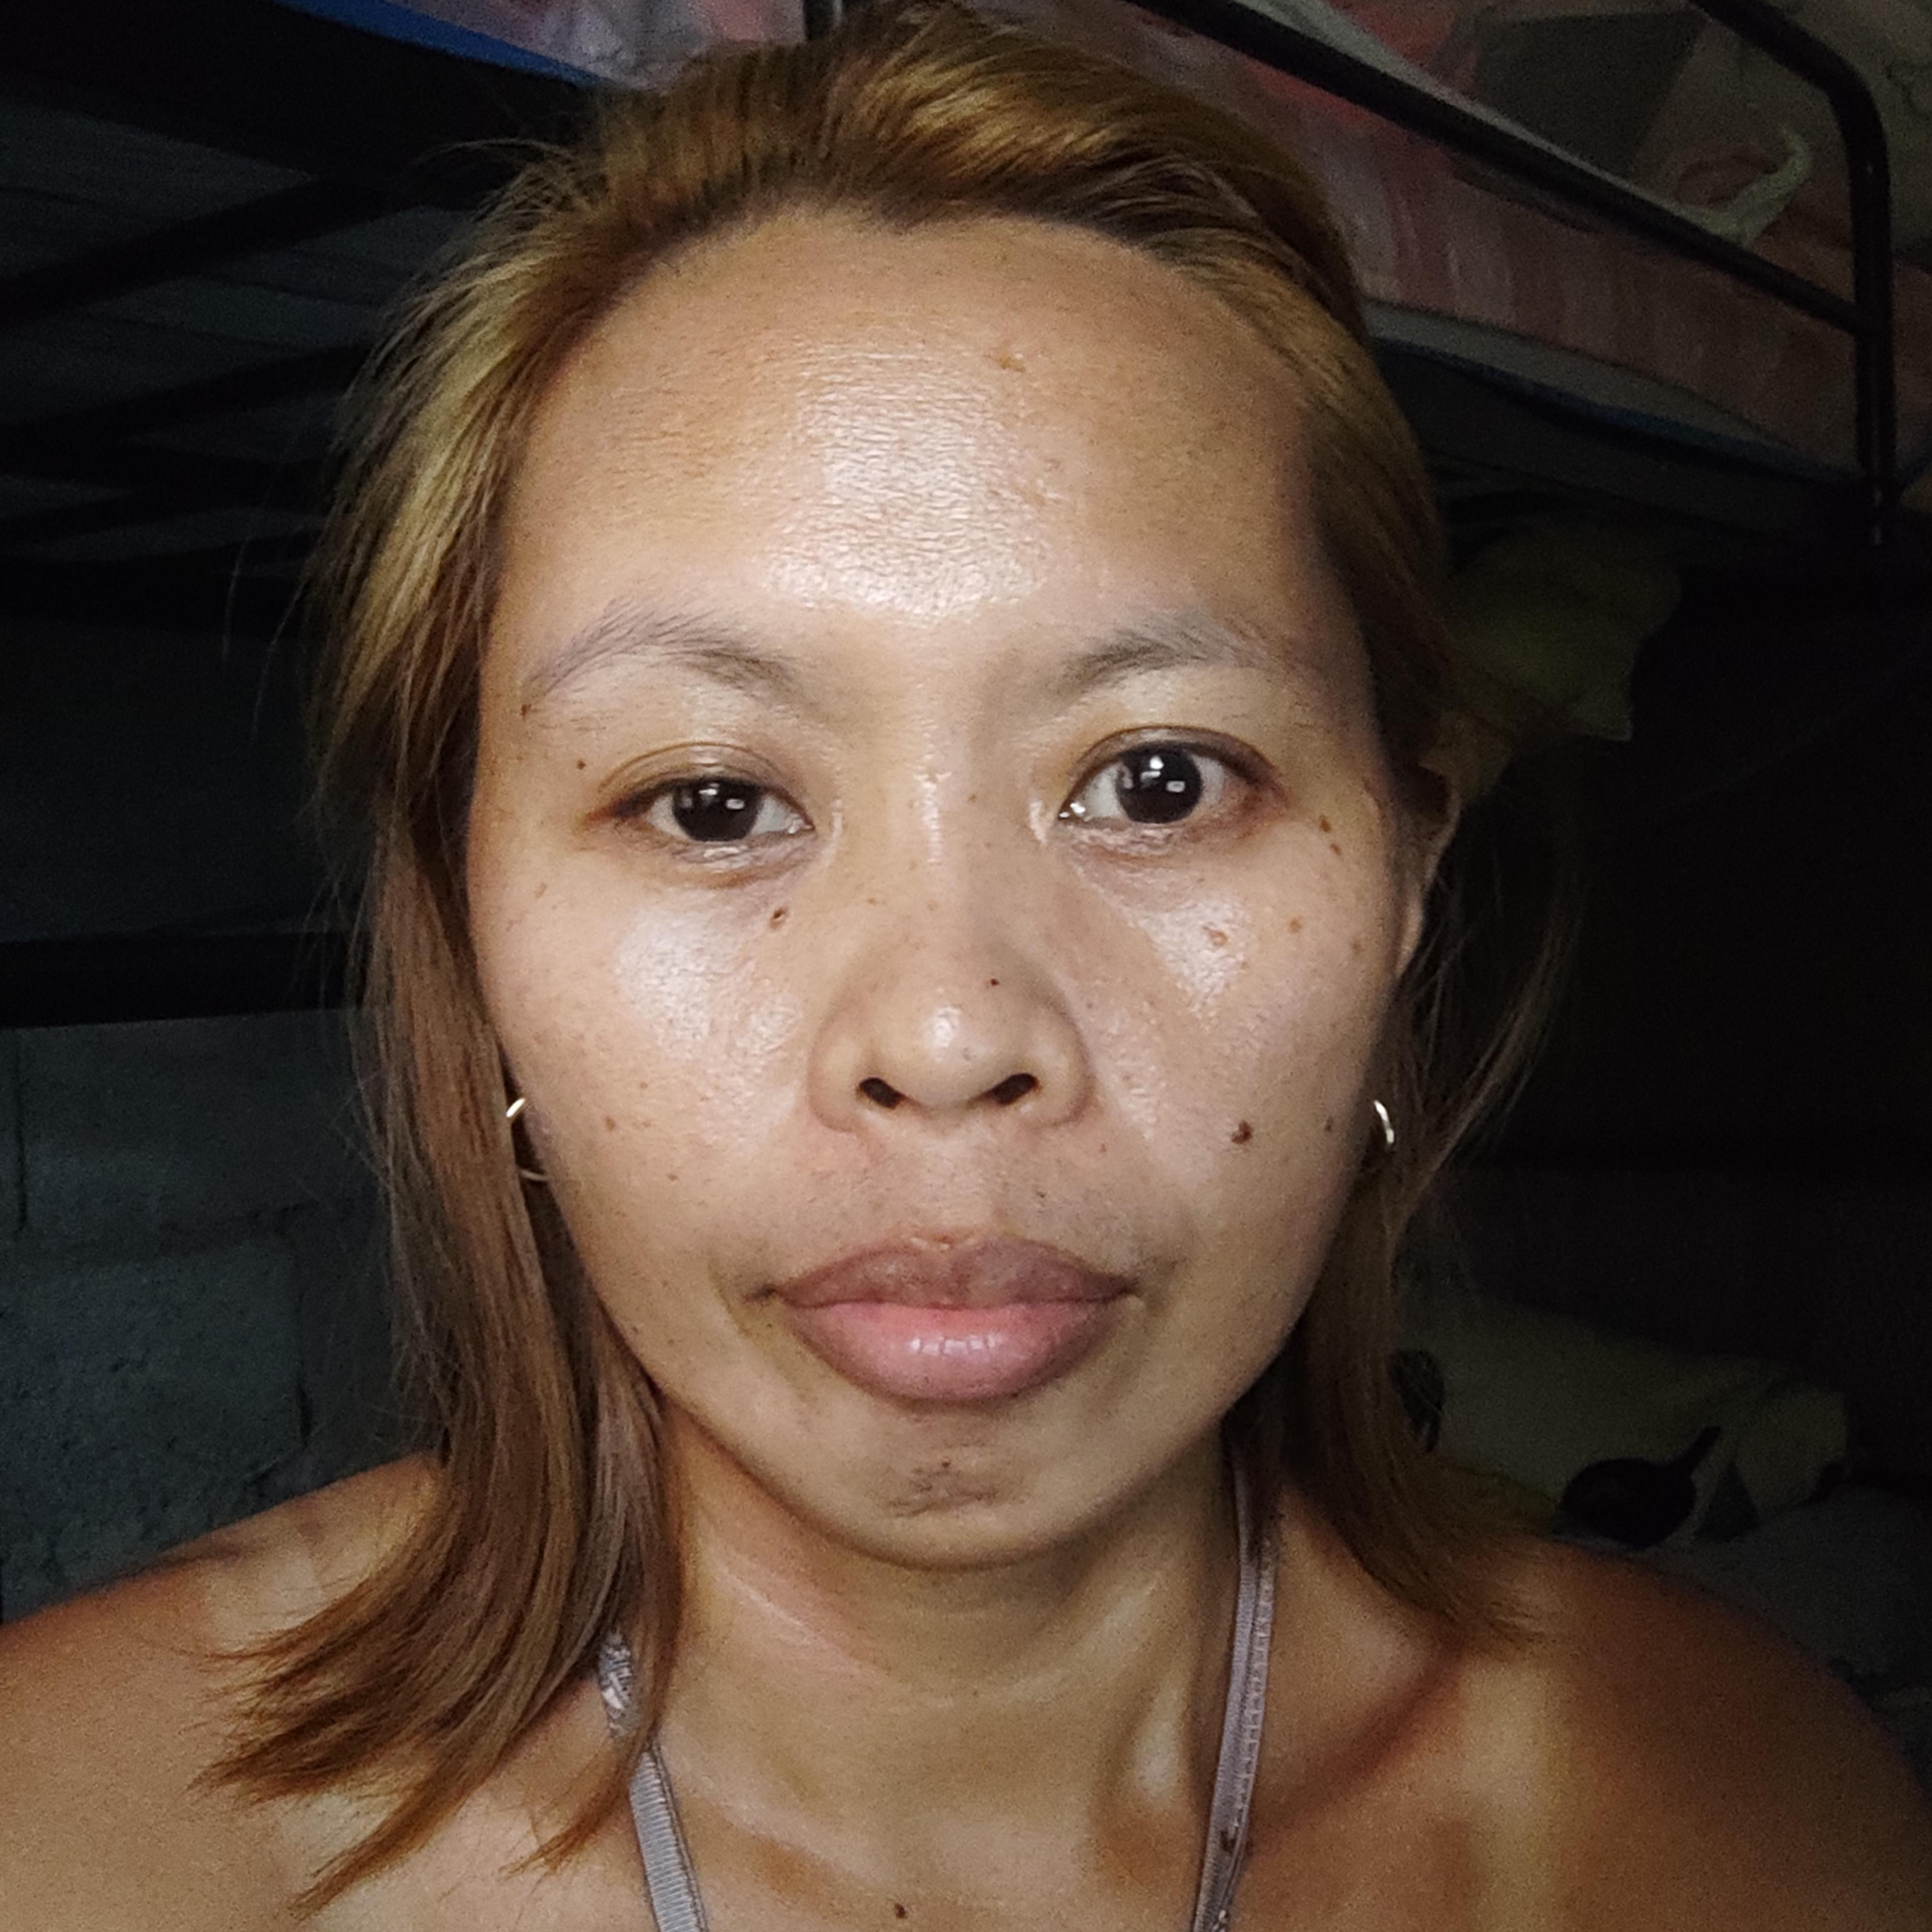Englarged-Pores: (793, 451, 1044, 626), (626, 968, 796, 1102), (1169, 984, 1311, 1088)
